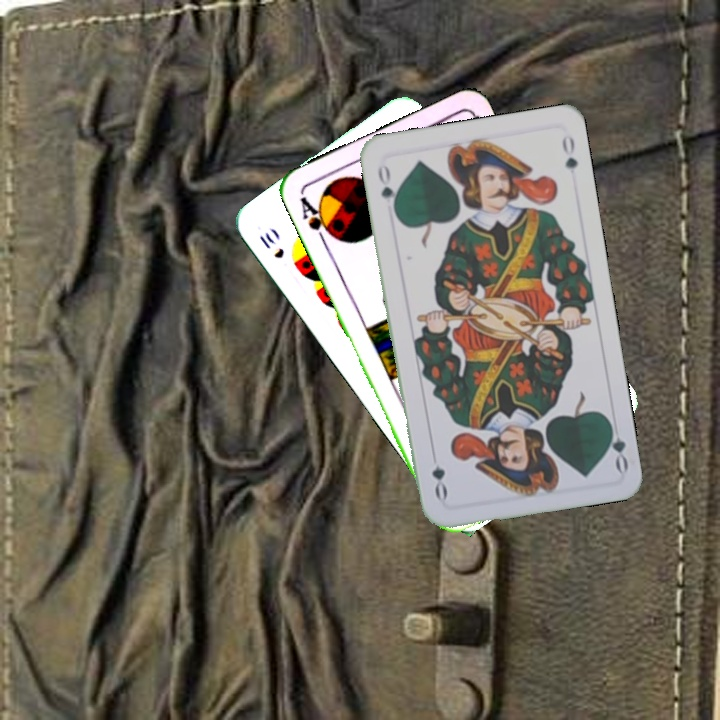GO: (603, 415, 631, 474), (374, 159, 400, 217)
S10: (255, 228, 287, 261)
SA: (295, 192, 338, 247)
